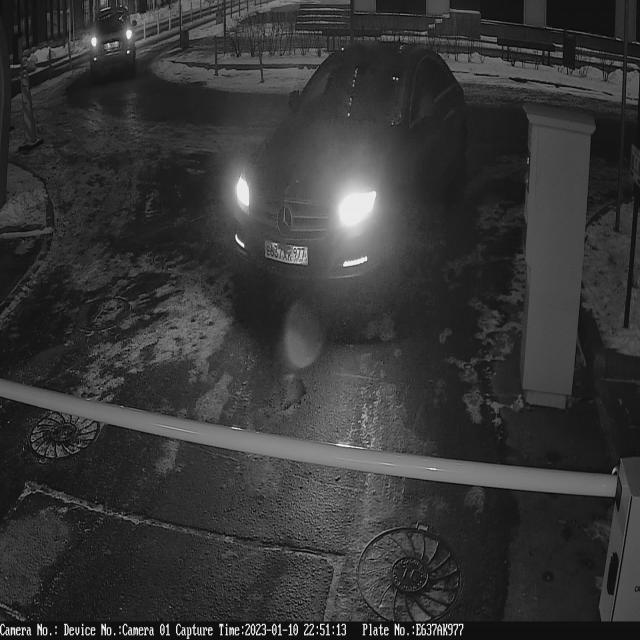car-plate-numbers: (264, 238, 313, 271)
